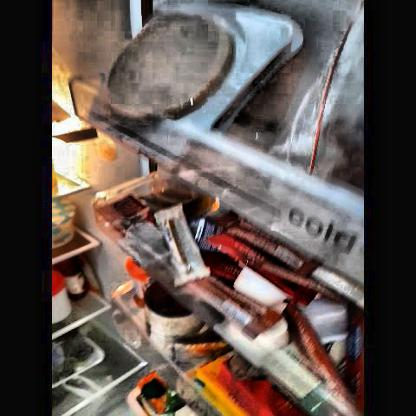butter: (193, 369, 252, 414)
salami: (109, 13, 226, 111)
